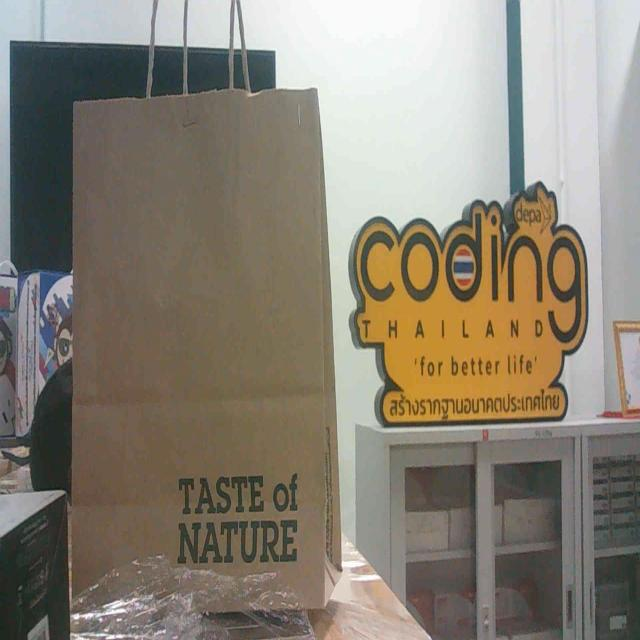bag: (61, 64, 372, 612)
